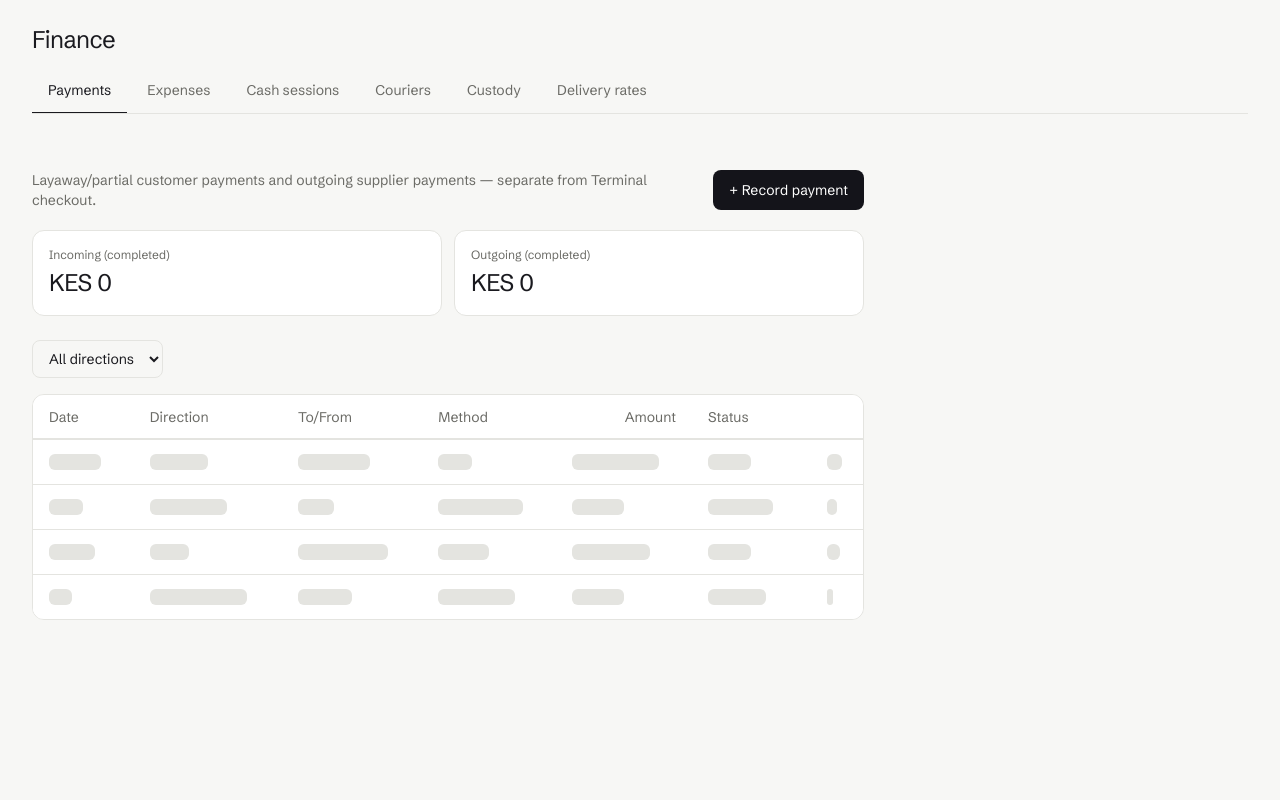
Test: Finance tab › shows the Custody tab only with the custody.manage permission
Step 1. Click the tab "Custody" → {"x": 494, "y": 91}, box [451,68,537,114]
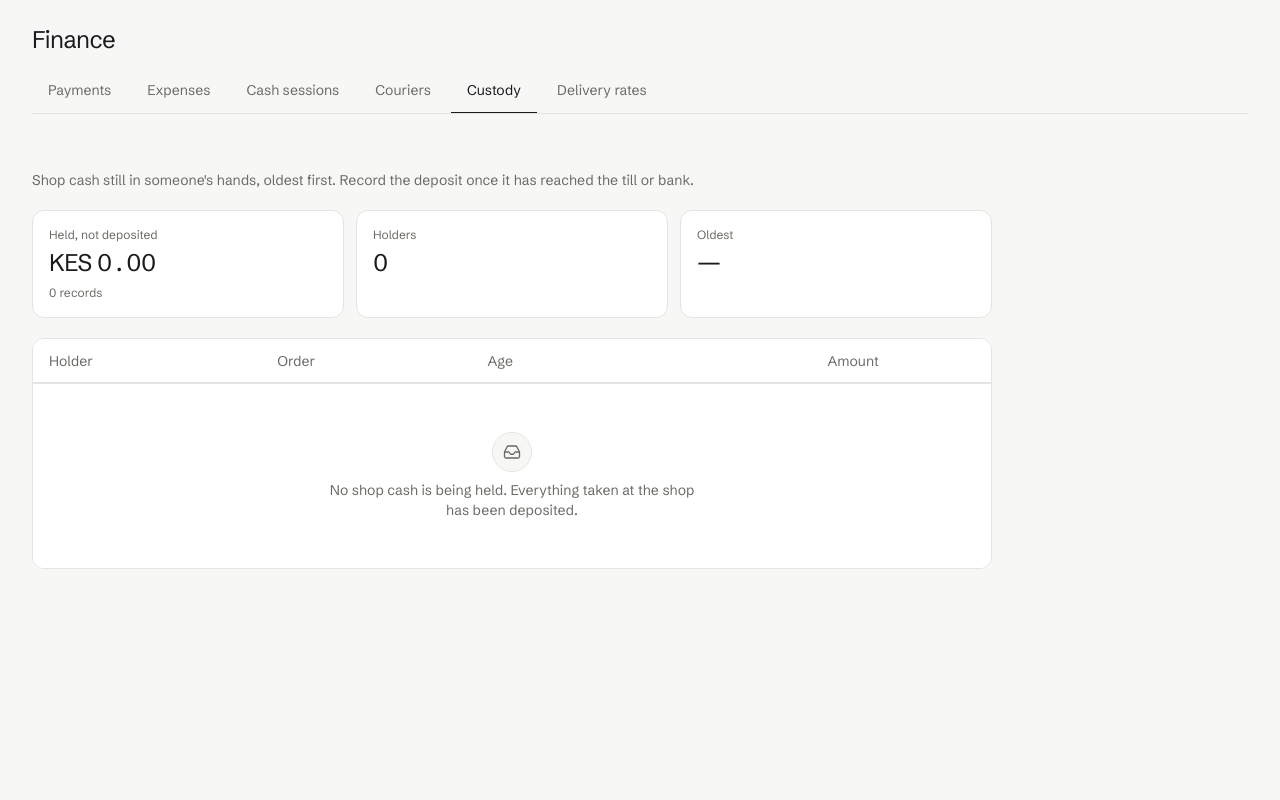
expect the text "No shop cash is being held" is shown: met, box [330,481,694,519]
